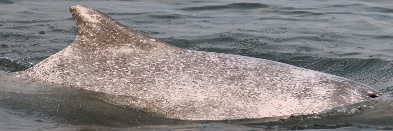fin: (20, 1, 384, 124)
